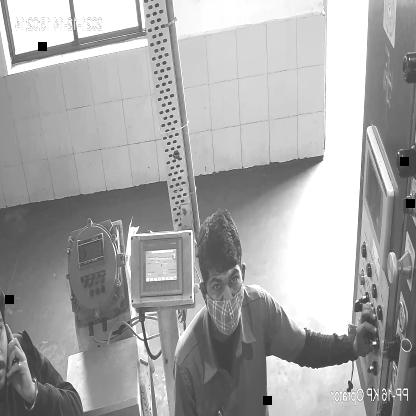no_goggles: (208, 268, 242, 300)
